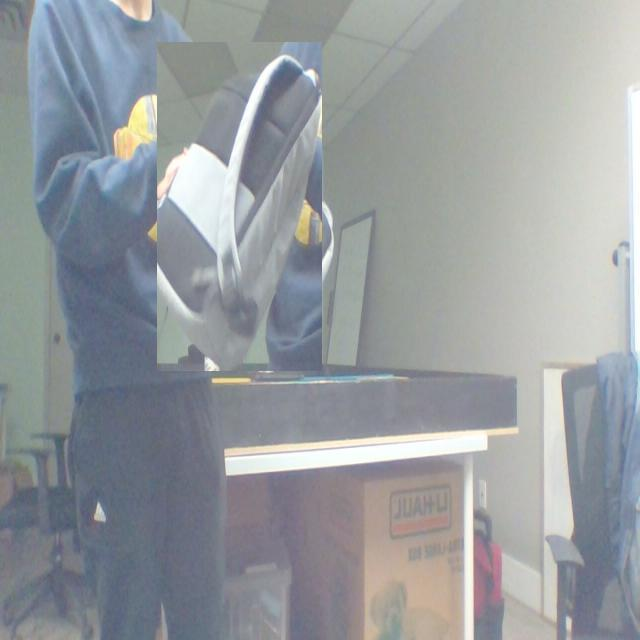Backpacks: (156, 42, 322, 372)
